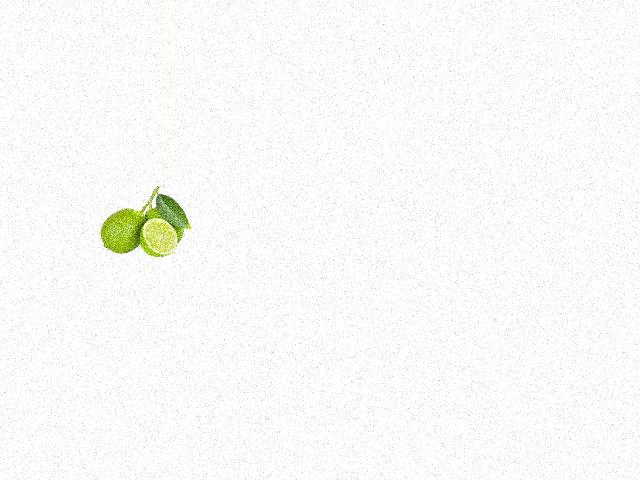lemon: (146, 202, 186, 245)
